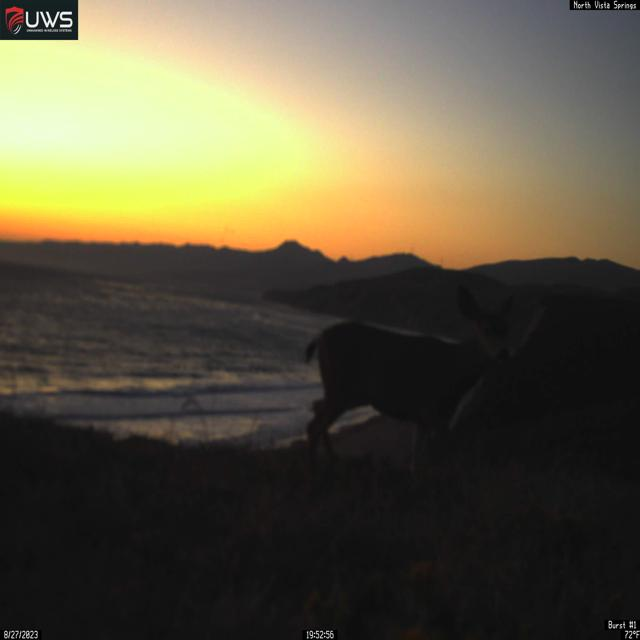deer: (303, 283, 517, 491)
